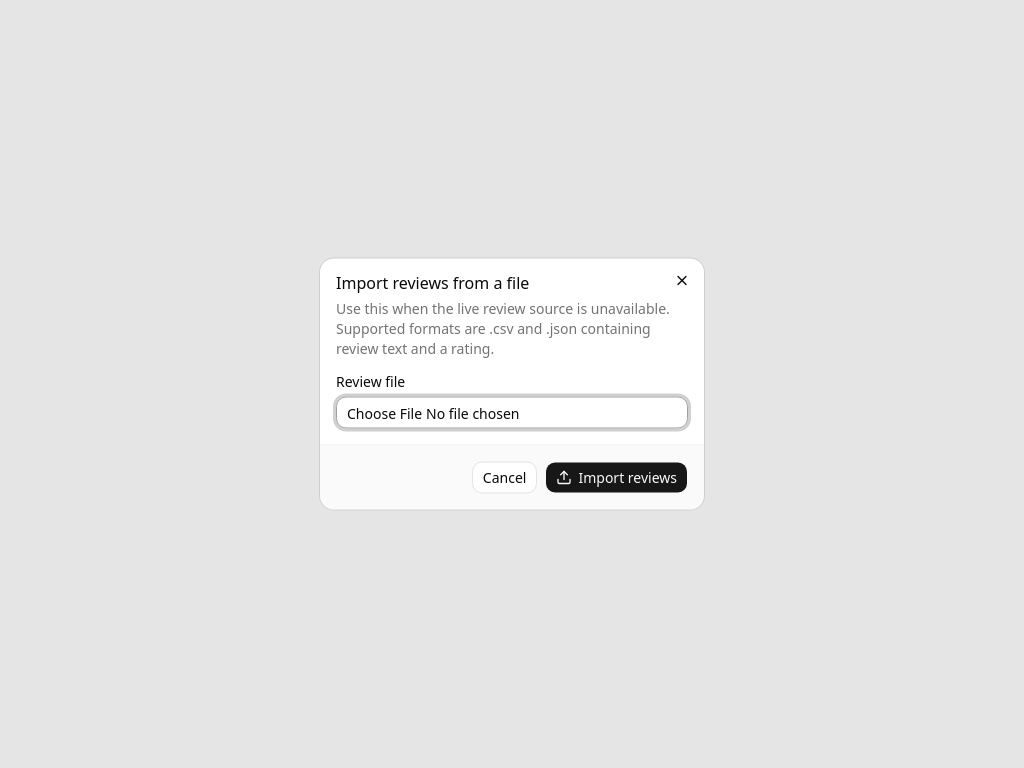
ImportReviewsDialog › requires a file to be chosen
Click the button "Import reviews" at [617, 478], box [545, 462, 688, 494]
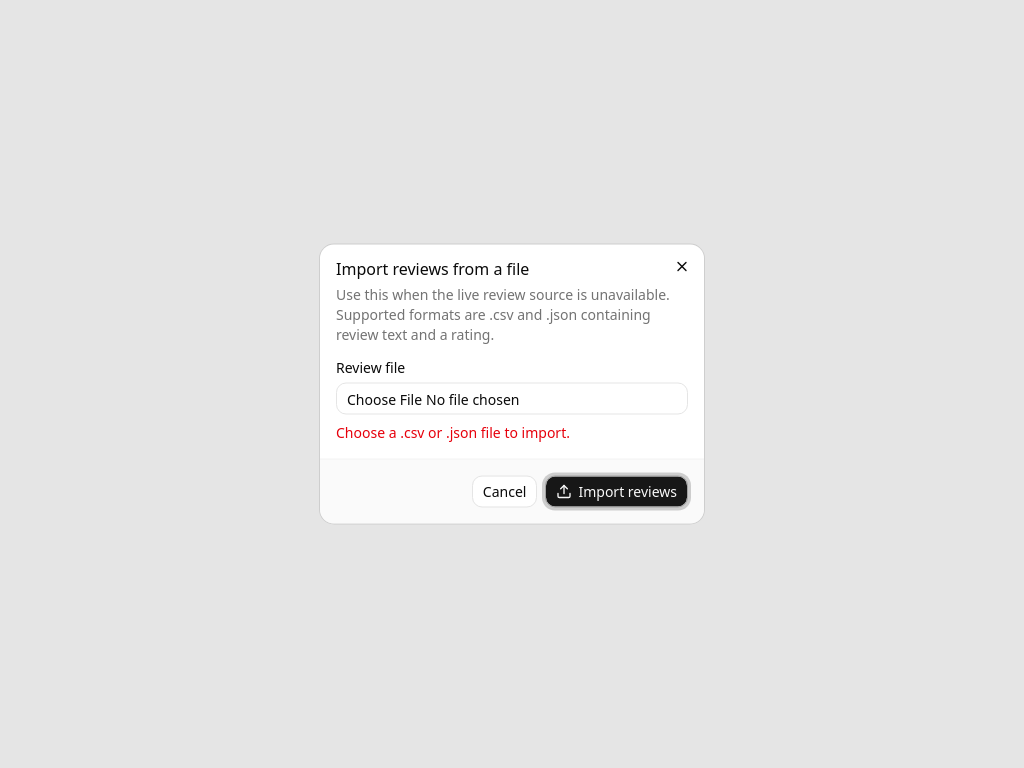
Result: the message "Choose a .csv or .json file to import." is shown at [336, 422, 570, 442]
